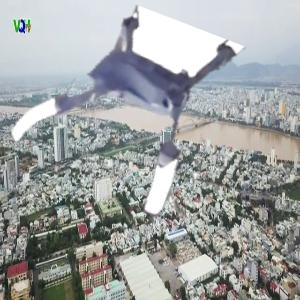drone: (17, 6, 220, 209)
